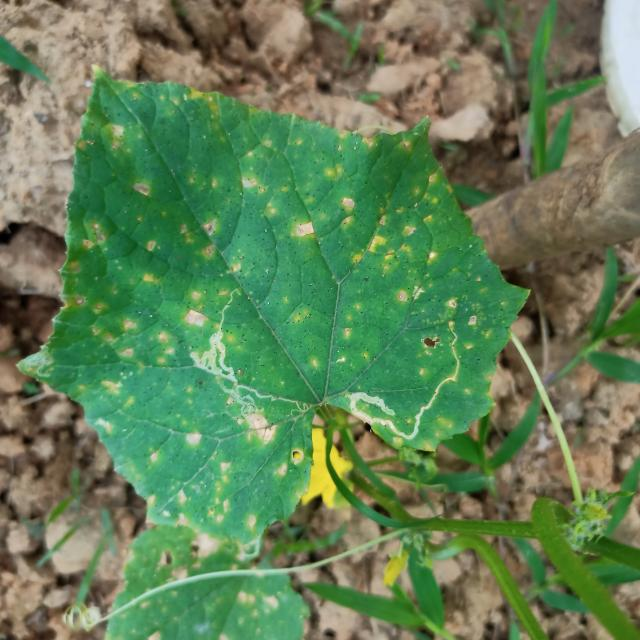disease_cucumber: (57, 98, 468, 527), (126, 504, 270, 640)
